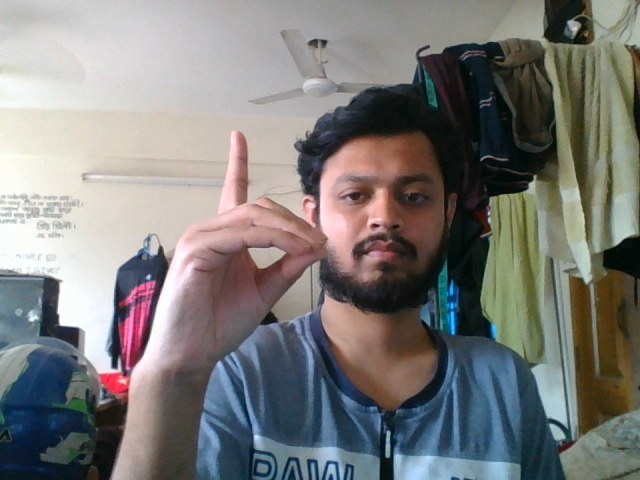dha: (115, 127, 333, 459)
